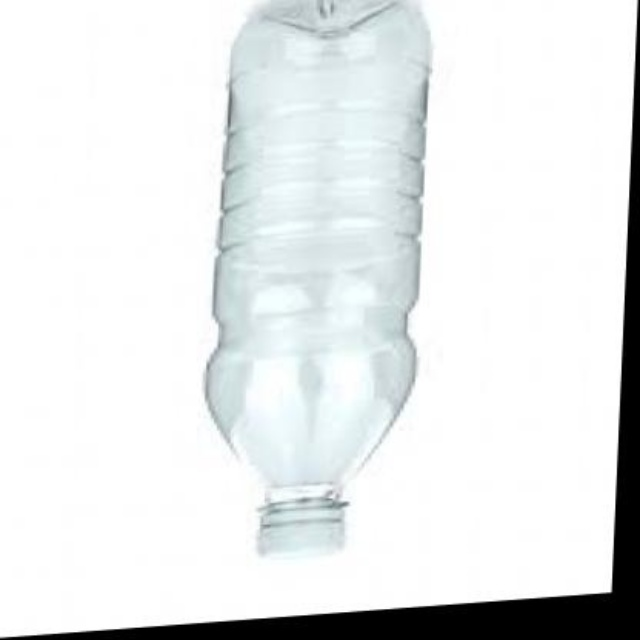trash: (206, 0, 428, 554)
